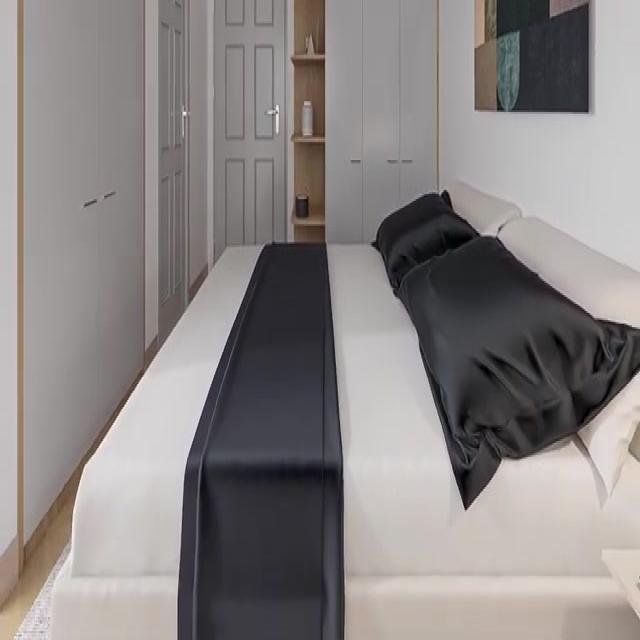door: (212, 0, 285, 261), (156, 0, 187, 332)
obstacle: (47, 177, 639, 638)
